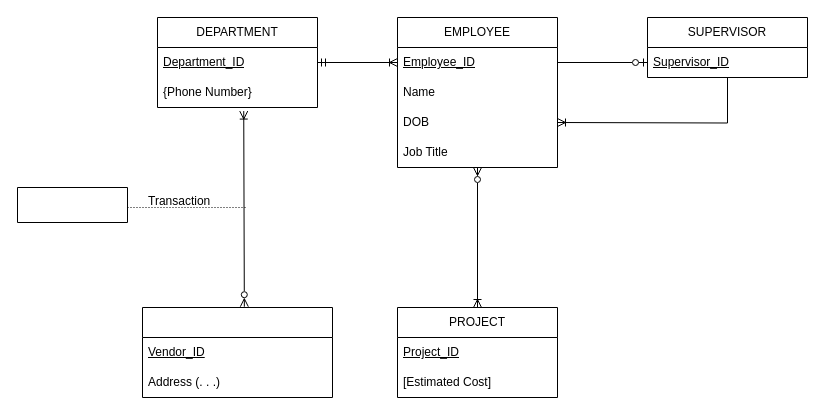
Some shapes in this 825 by 415 pixel diagram are drawn without their labels. The box of each missing label's shape, as (x1, y1, x2, y2) in pixels:
SUPPLIER: (142, 306, 332, 398)
Transaction Date: (16, 186, 128, 222)
